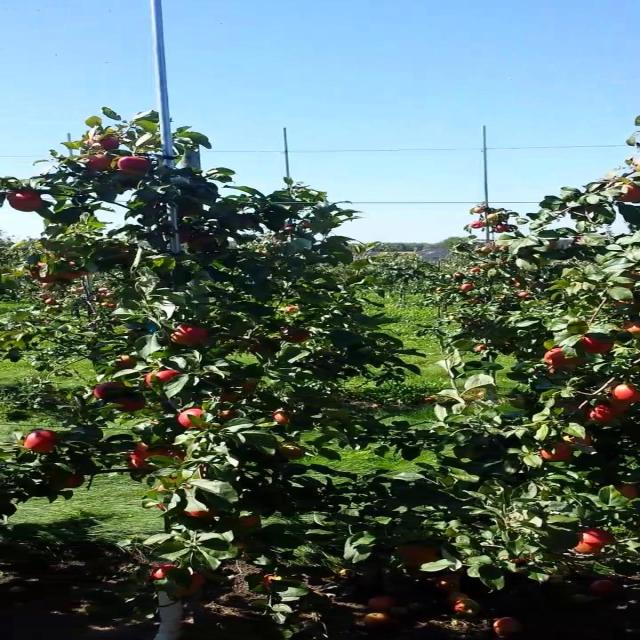apple: (149, 564, 204, 599), (129, 442, 184, 470), (396, 544, 440, 568), (573, 529, 613, 554), (542, 348, 584, 370), (589, 402, 629, 425), (171, 324, 209, 345), (24, 429, 58, 452), (7, 189, 42, 211), (144, 369, 182, 387), (113, 392, 147, 412), (578, 335, 613, 354), (540, 442, 573, 461), (93, 381, 127, 399), (29, 261, 58, 282), (118, 156, 151, 174), (176, 408, 204, 429), (187, 234, 218, 252), (611, 384, 640, 403), (84, 135, 120, 149), (280, 326, 311, 342), (249, 339, 280, 355), (618, 182, 640, 203), (278, 442, 304, 459), (87, 154, 111, 171), (617, 484, 640, 499), (113, 355, 136, 369), (271, 409, 291, 425), (611, 396, 631, 412), (187, 509, 218, 519), (620, 321, 640, 336), (58, 269, 87, 279), (622, 321, 640, 337), (238, 515, 260, 528), (260, 574, 282, 587), (64, 474, 84, 488), (562, 435, 593, 444), (220, 390, 242, 402), (218, 409, 238, 421), (242, 379, 258, 392), (233, 540, 249, 551), (178, 230, 191, 242), (67, 261, 76, 267)
